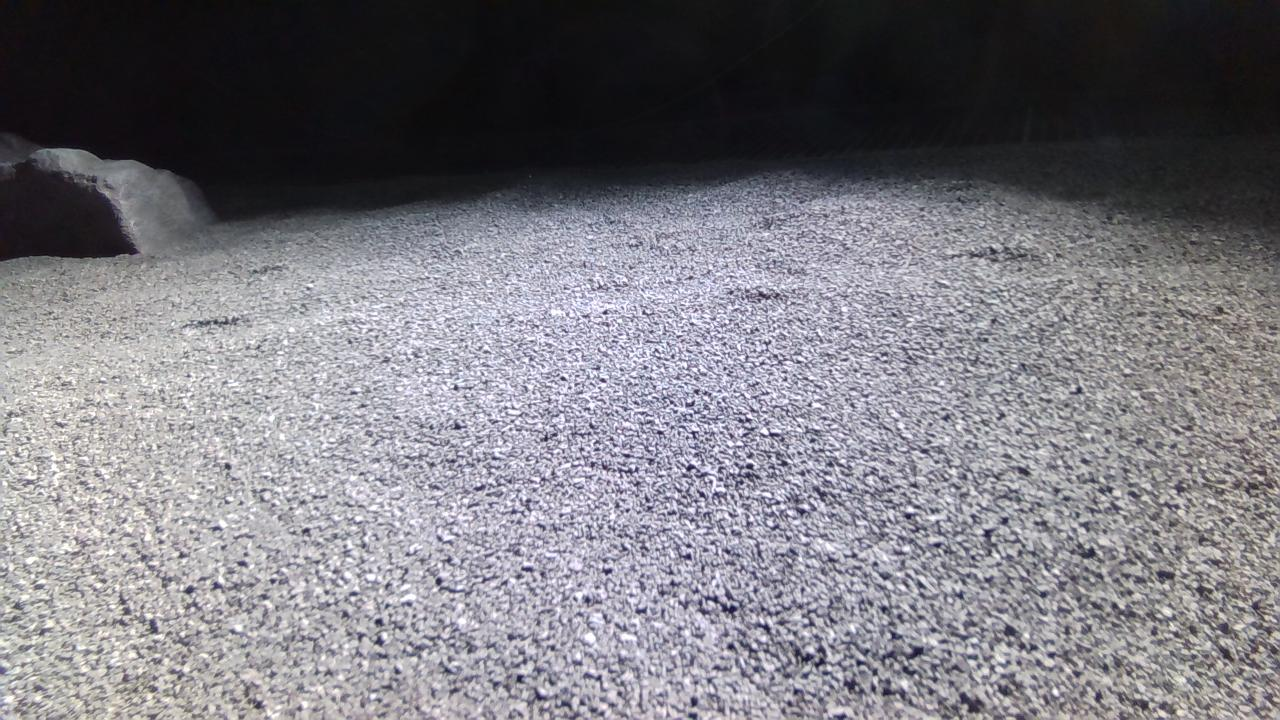rock: (0, 132, 214, 258)
